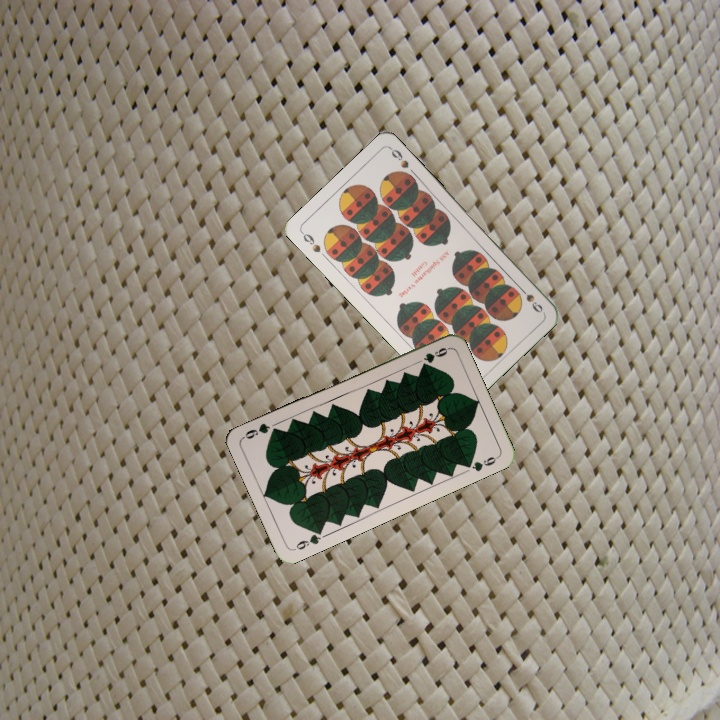G9: (290, 525, 326, 553), (413, 343, 451, 366)
S9: (514, 282, 545, 316), (297, 228, 323, 255)
